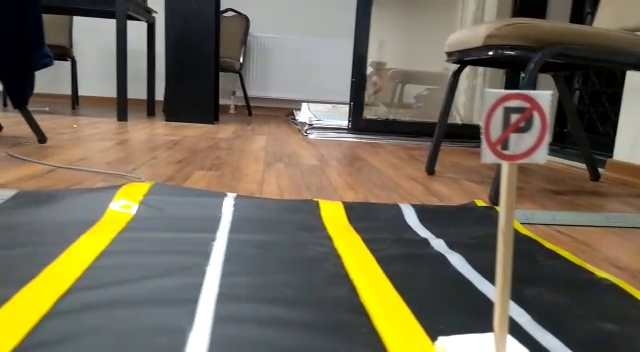park_yapilmaz: (482, 92, 549, 162)
